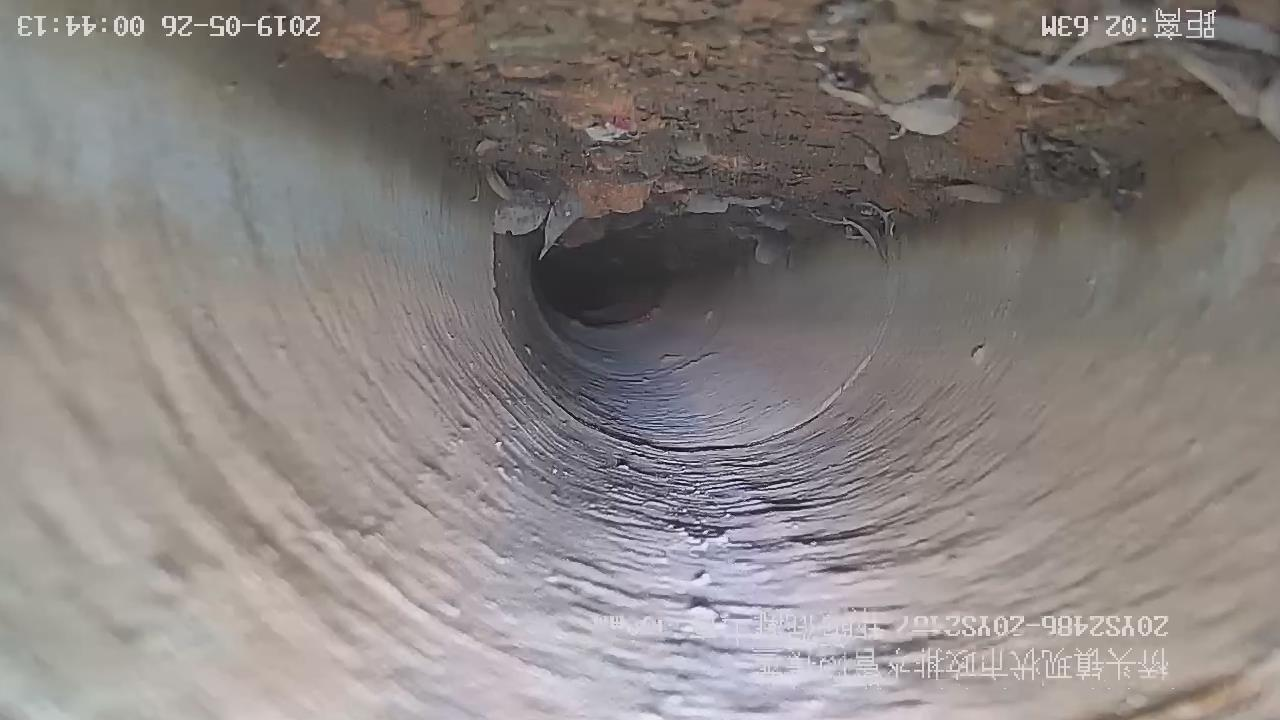CJ: (318, 1, 1280, 266)
CKTJ: (483, 207, 900, 458)
